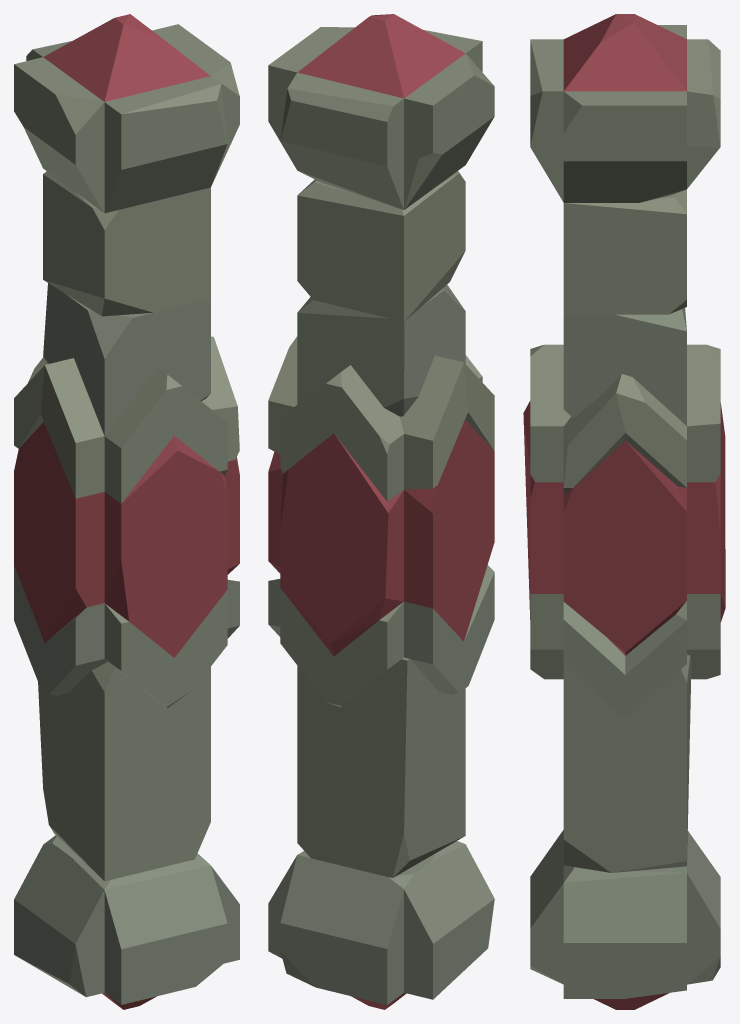
Rendered from pillar_thin_1.fbx.
The picture shows the model from 3 angles, left to right: view 1: azimuth 30°, elevation 25°; view 2: azimuth 150°, elevation 25°; view 3: azimuth 270°, elevation 25°; orthographic projection.
Parts seen in each view (by area): view 1: pillar_thin_1; view 2: pillar_thin_1; view 3: pillar_thin_1.
Boxes of the visible parts, x1,y1,x2,y2 form: pillar_thin_1: (14,14,239,1009); pillar_thin_1: (268,14,494,1009); pillar_thin_1: (523,14,725,1009).
Bounding box in the file's own units: 81.62 × 442 × 82.02.
